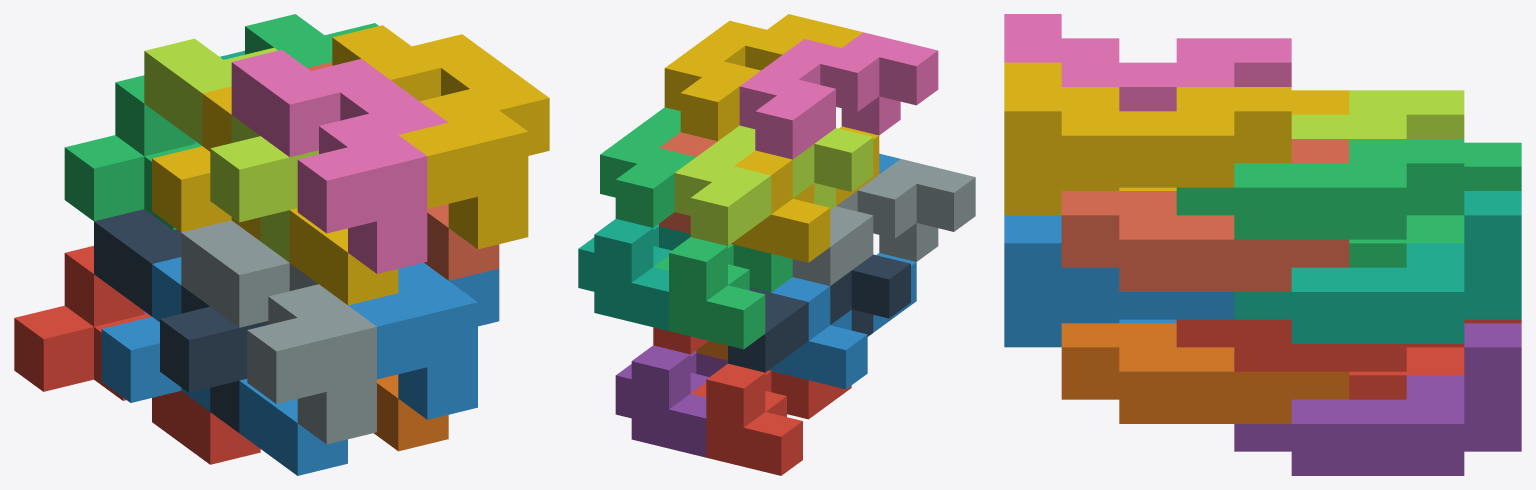
Rendered from tiling.obj.
3 renders of one model, left to right at view 1: azimuth 30°, elevation 25°; view 2: azimuth 150°, elevation 25°; view 3: azimuth 270°, elevation 25°, orthographic. The views are drawn at different scales.
Parts seen in each view (by area): view 1: copy_2_domain_4, copy_2_domain_8, copy_2_domain_2, copy_2_domain_6, copy_1_domain_1, copy_2_domain_3, copy_2_domain_1, copy_1_domain_4, copy_1_domain_2, copy_1_domain_3, copy_2_domain_7, copy_1_domain_8 (+1 smaller); view 2: copy_2_domain_4, copy_2_domain_3, copy_2_domain_2, copy_1_domain_1, copy_2_domain_8, copy_1_domain_3, copy_1_domain_5, copy_1_domain_7, copy_2_domain_1, copy_2_domain_7, copy_1_domain_4, copy_1_domain_2 (+3 smaller); view 3: copy_2_domain_8, copy_1_domain_5, copy_1_domain_7, copy_1_domain_8, copy_2_domain_7, copy_1_domain_6, copy_2_domain_4, copy_2_domain_6, copy_2_domain_5, copy_2_domain_3, copy_1_domain_3, copy_1_domain_1 (+2 smaller).
Part boxes in pixels (<box>): copy_2_domain_4: <box>231,50,448,273</box>; copy_2_domain_8: <box>332,25,549,249</box>; copy_2_domain_2: <box>181,220,376,444</box>; copy_2_domain_6: <box>348,262,499,419</box>; copy_1_domain_1: <box>14,246,260,464</box>; copy_2_domain_3: <box>144,38,318,262</box>; copy_2_domain_1: <box>94,209,268,432</box>; copy_1_domain_4: <box>152,86,398,305</box>; copy_1_domain_2: <box>101,257,347,475</box>; copy_1_domain_3: <box>64,75,201,230</box>; copy_2_domain_7: <box>245,14,378,67</box>; copy_1_domain_8: <box>307,62,499,280</box>; copy_2_domain_4: <box>739,32,938,159</box>; copy_2_domain_3: <box>674,125,873,245</box>; copy_2_domain_2: <box>792,159,975,285</box>; copy_1_domain_1: <box>691,363,851,475</box>; copy_2_domain_8: <box>664,14,862,141</box>; copy_1_domain_3: <box>654,237,792,349</box>; copy_1_domain_5: <box>615,345,727,457</box>; copy_1_domain_7: <box>578,219,690,330</box>; copy_2_domain_1: <box>728,254,910,372</box>; copy_2_domain_7: <box>600,107,695,227</box>; copy_1_domain_4: <box>733,126,879,262</box>; copy_1_domain_2: <box>771,253,916,389</box>; copy_2_domain_8: <box>1004,62,1291,215</box>; copy_1_domain_5: <box>1234,323,1521,475</box>; copy_1_domain_7: <box>1234,191,1521,343</box>; copy_1_domain_8: <box>1061,139,1349,291</box>; copy_2_domain_7: <box>1176,139,1464,239</box>; copy_1_domain_6: <box>1061,323,1349,423</box>; copy_2_domain_4: <box>1004,14,1291,111</box>; copy_2_domain_6: <box>1004,215,1234,347</box>; copy_2_domain_5: <box>1176,319,1464,371</box>; copy_2_domain_3: <box>1291,90,1464,138</box>; copy_1_domain_3: <box>1349,142,1521,267</box>; copy_1_domain_1: <box>1349,319,1521,399</box>.
Bounding box in the file's own units: 6 × 7 × 9.
